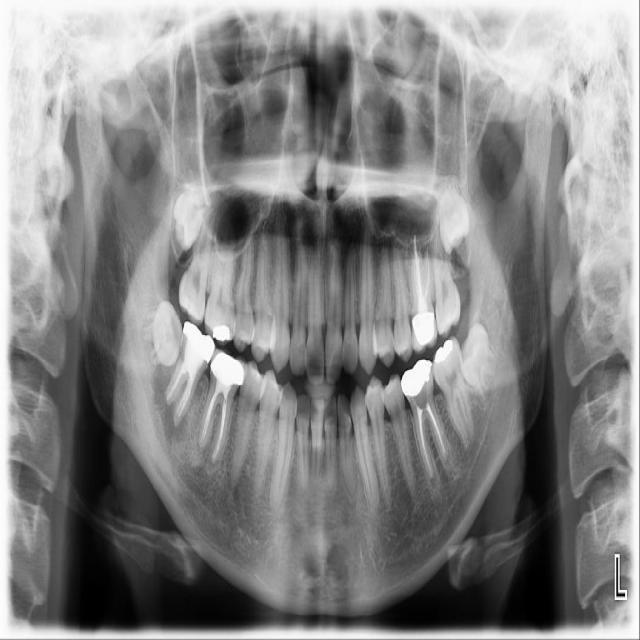Crown: (210, 346, 248, 394), (181, 322, 214, 362), (400, 359, 432, 399), (411, 311, 438, 355)
Filling: (433, 339, 454, 365), (211, 325, 231, 344)
Periapical lesion: (165, 403, 186, 438), (343, 465, 358, 499), (228, 466, 243, 492), (197, 435, 212, 457), (208, 450, 219, 471), (430, 469, 437, 489)
Root Canal Treatment: (425, 403, 446, 458), (417, 407, 432, 474), (204, 385, 220, 439), (176, 368, 194, 416), (180, 369, 198, 415), (168, 362, 189, 401), (216, 399, 227, 457), (414, 234, 423, 299), (424, 248, 430, 299)
